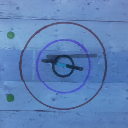Axe Tip: (46, 58, 58, 61)
